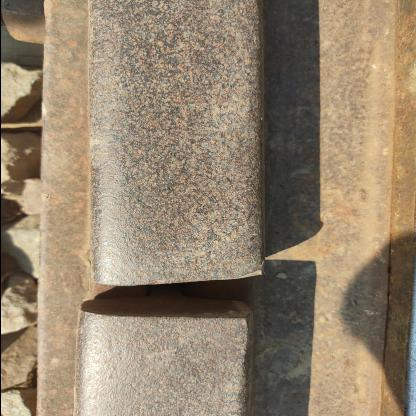Defective 2: (28, 174, 304, 410)
